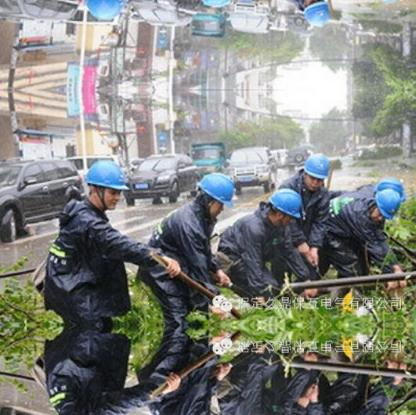Safety Helmet: (79, 154, 133, 218), (194, 167, 238, 223), (262, 182, 307, 230), (297, 148, 332, 193), (369, 187, 406, 226)
